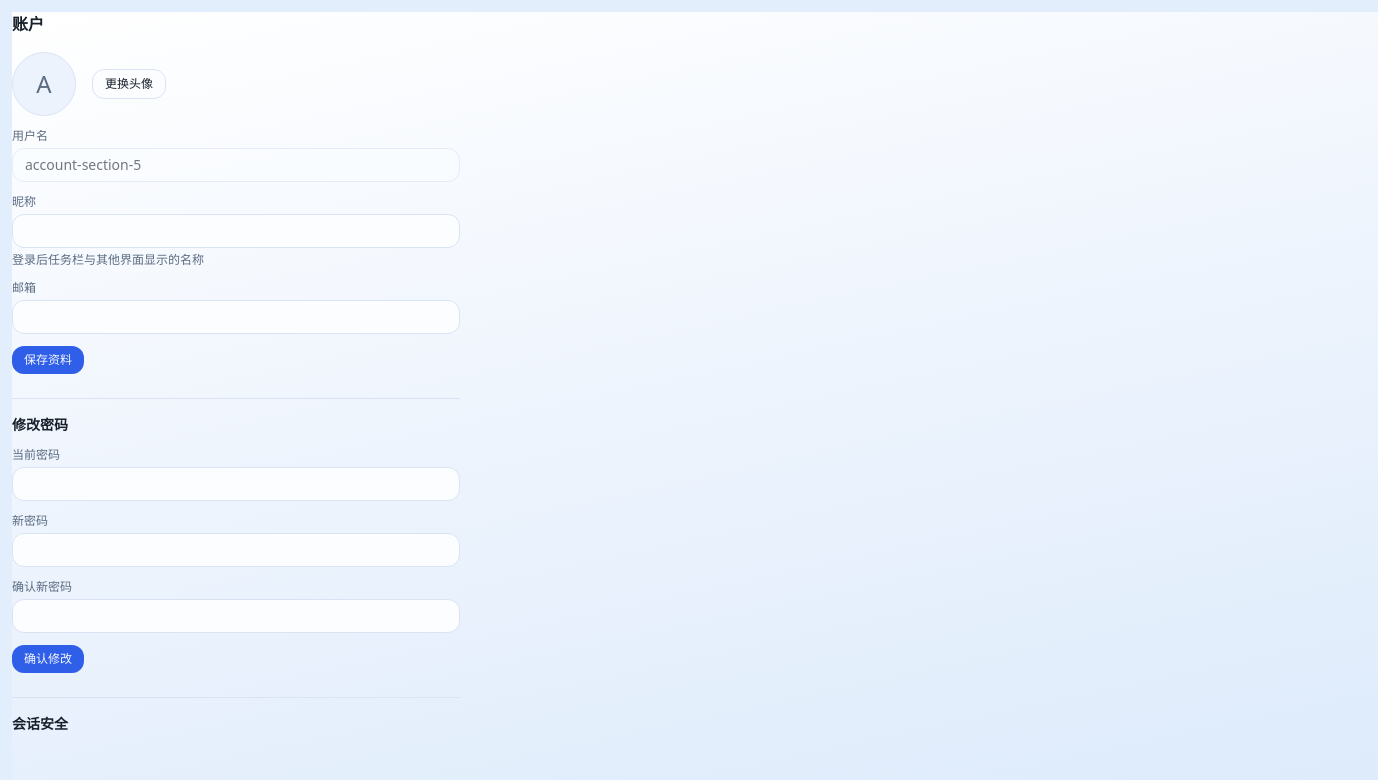
Test: AccountSection › blocks mismatched confirmation before touching the provider
Step 1. Type "secret123" into the password field labelled "当前密码" → (236, 484), box [12,467,460,501]
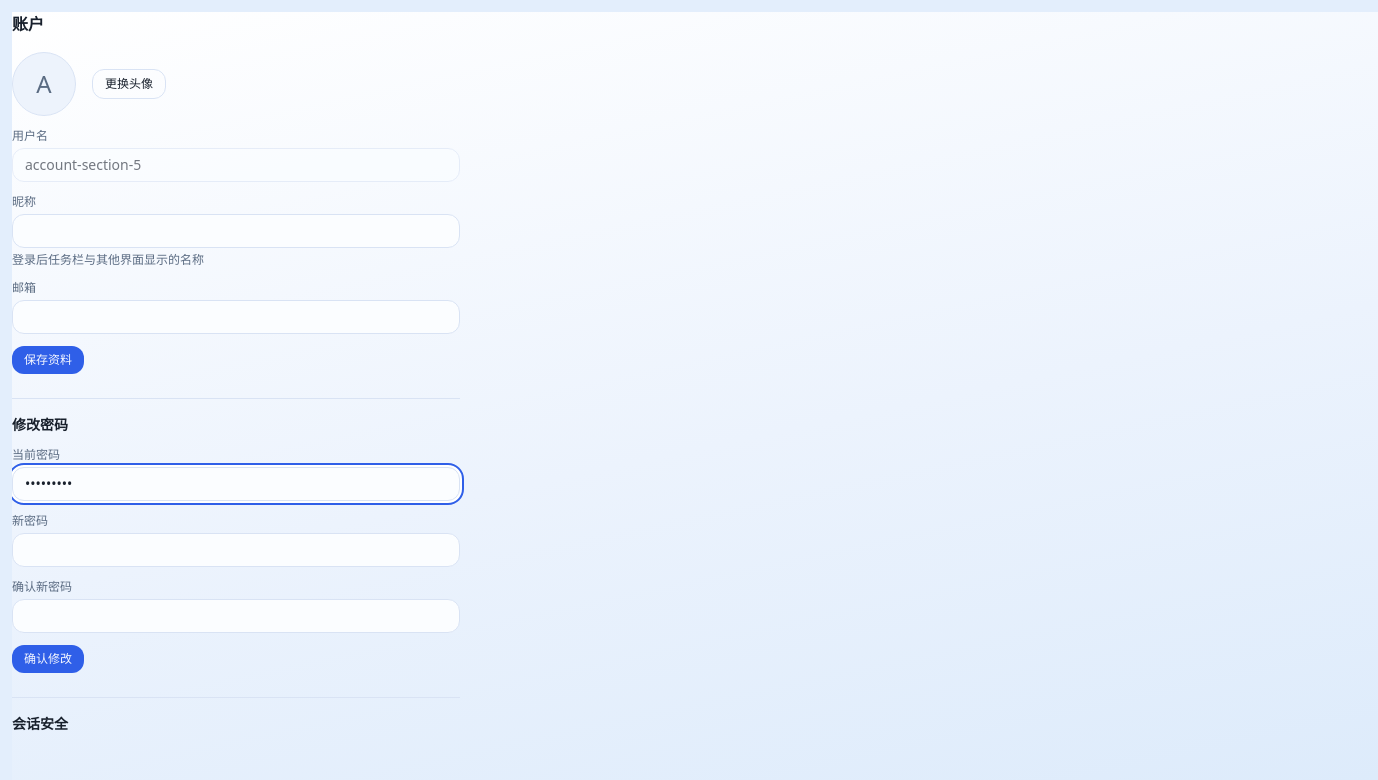
Step 2. Type "newpass123" into the password field labelled "新密码" → (236, 550), box [12,533,460,567]
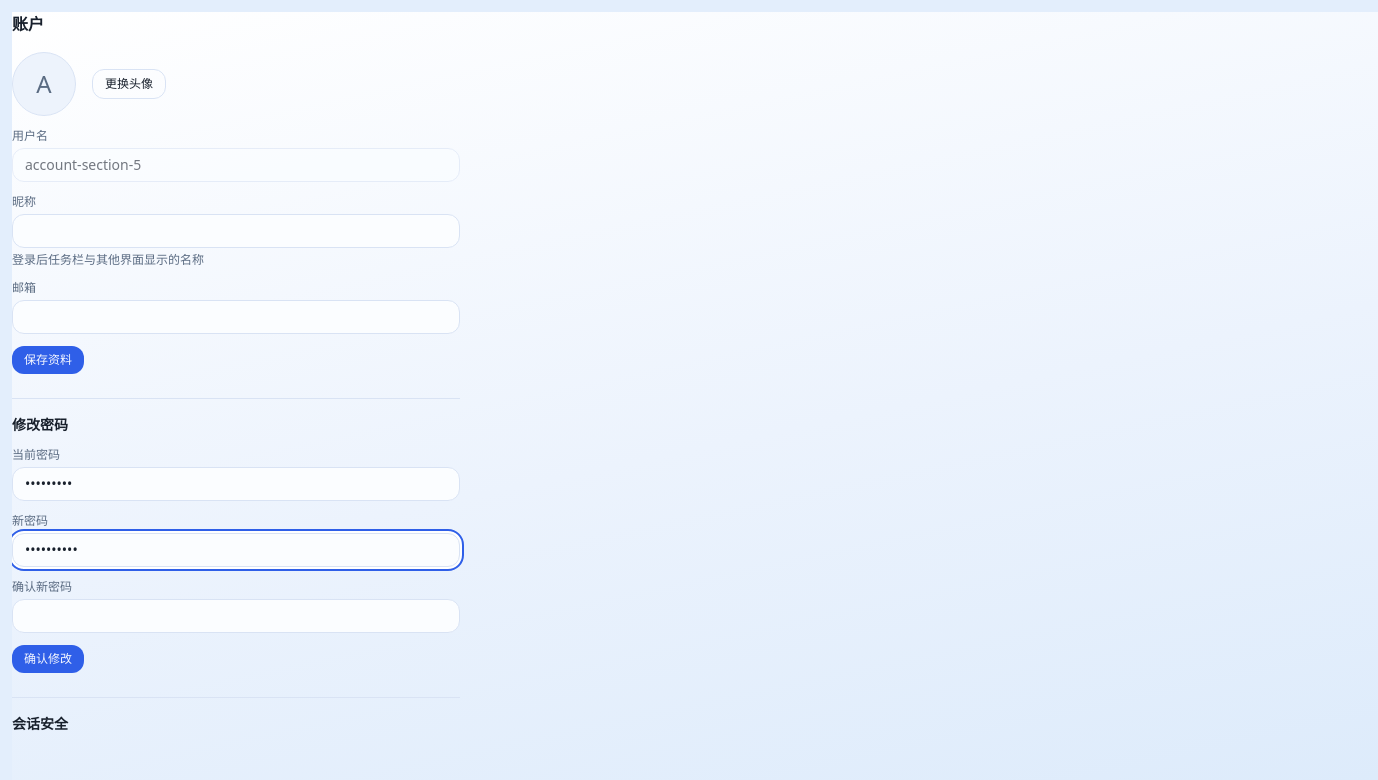
Step 3. Type "other456" into the password field labelled "确认新密码" → (236, 616), box [12,599,460,633]
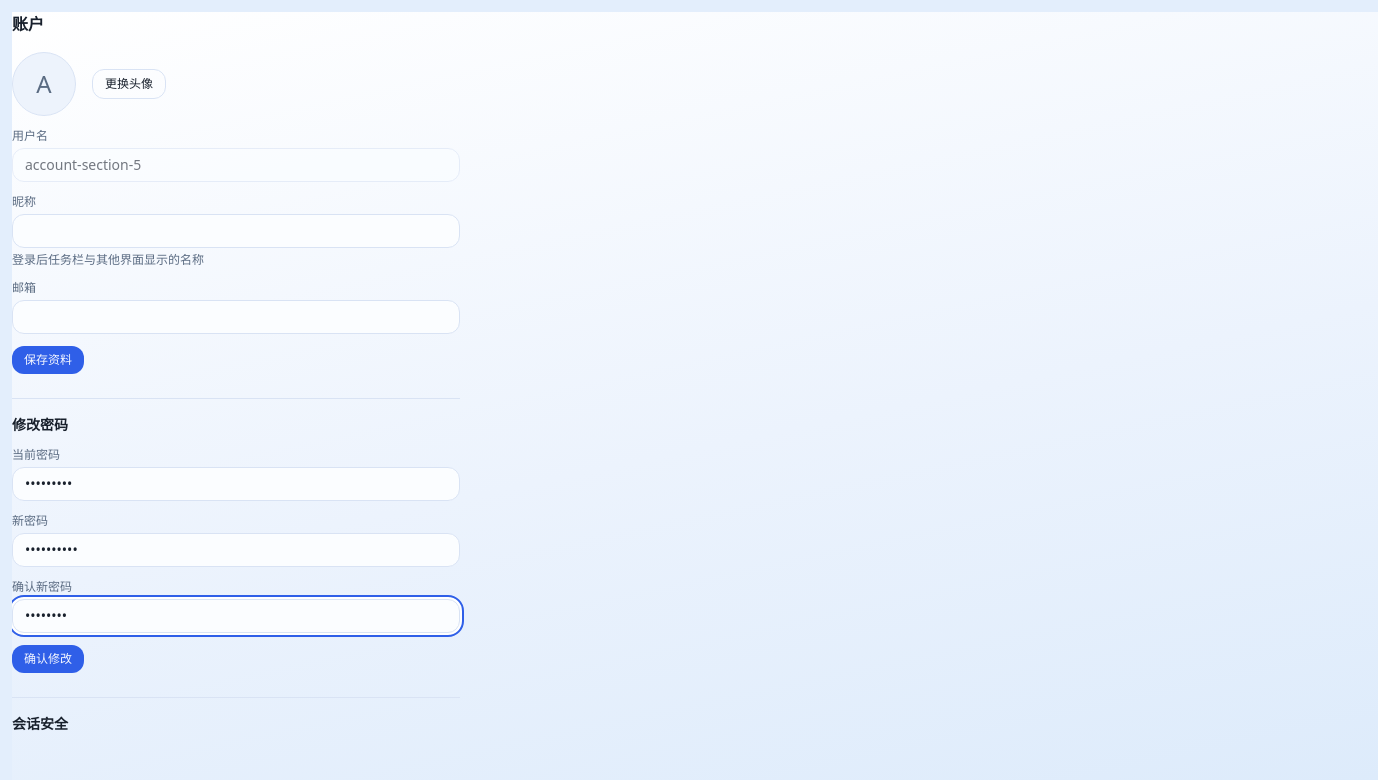
Step 4. Click the button "确认修改" → (48, 659), box [12,645,84,673]
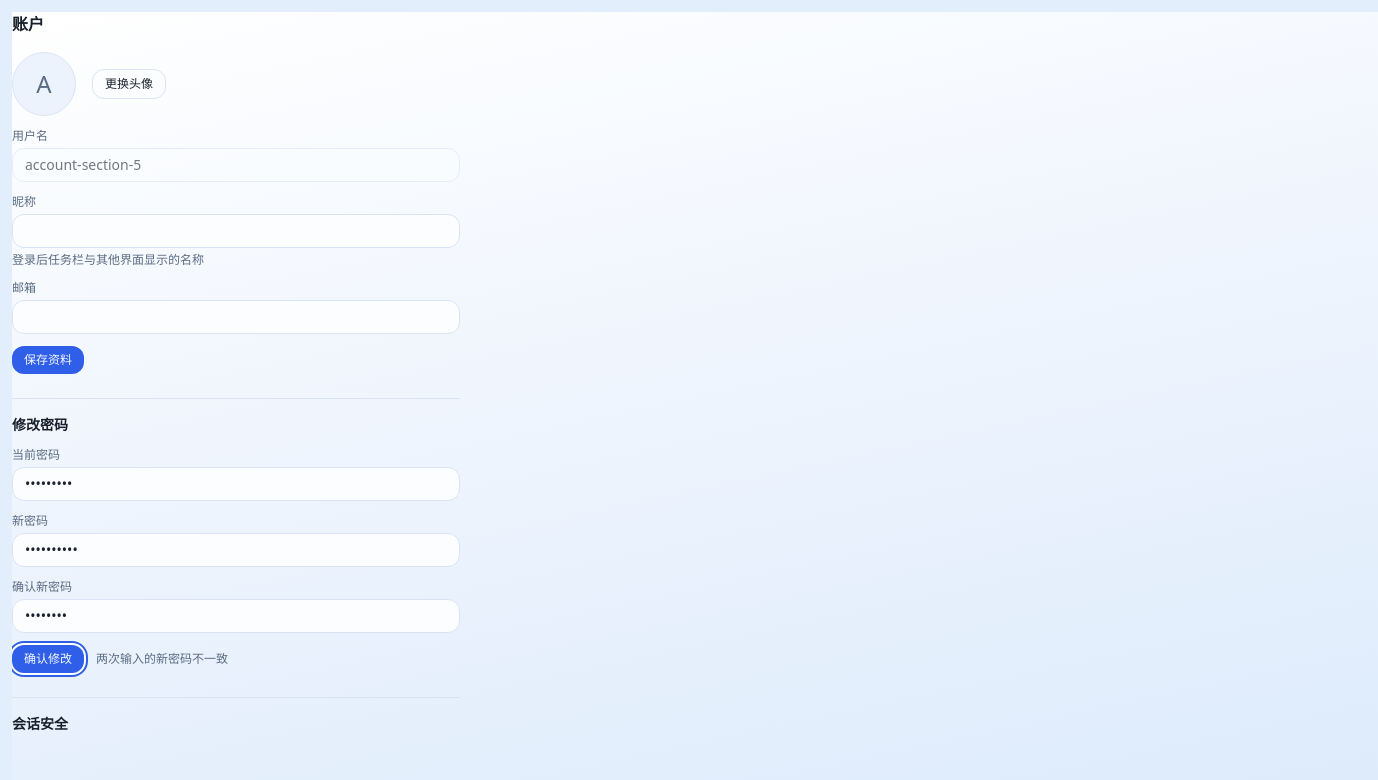
Expected: the message reads "两次输入的新密码不一致", [96,650,228,667]
